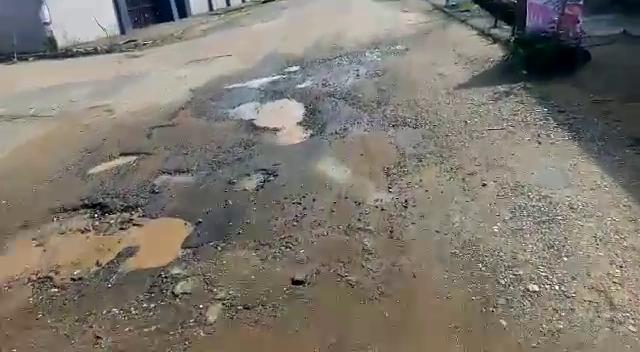pothole: (1, 203, 192, 292), (232, 98, 313, 146), (86, 150, 157, 175), (231, 169, 276, 194), (234, 73, 285, 88)
